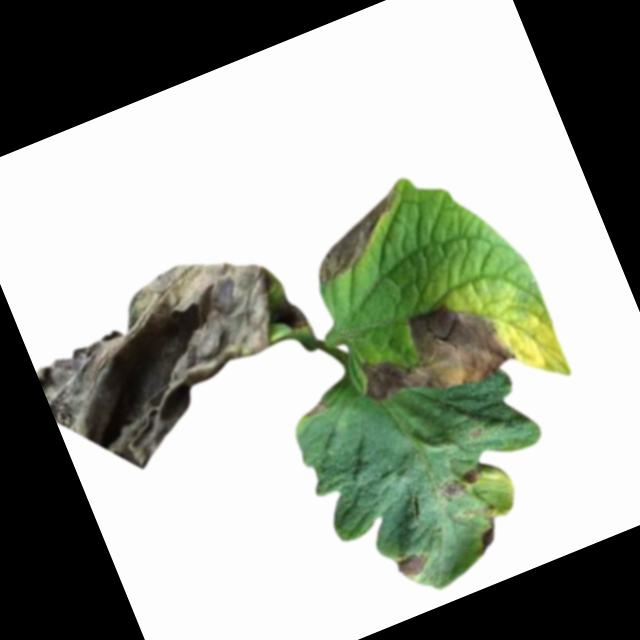Early_blight: (19, 227, 336, 493), (346, 283, 520, 424), (296, 184, 419, 287), (435, 464, 487, 505), (467, 513, 506, 554), (391, 547, 433, 583), (302, 397, 331, 421), (466, 425, 486, 444)
